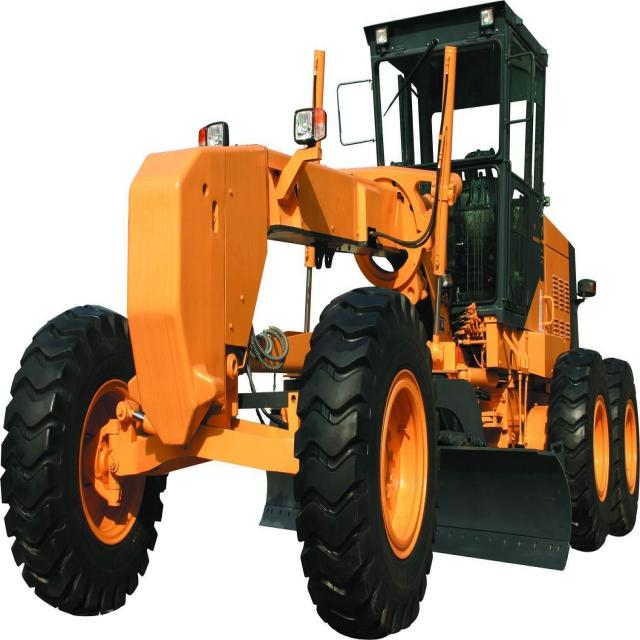Grader: (6, 6, 640, 632)
